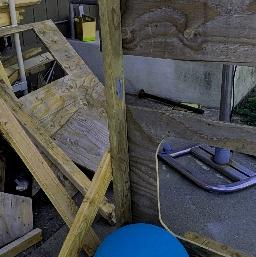algae: (90, 223, 193, 257)
